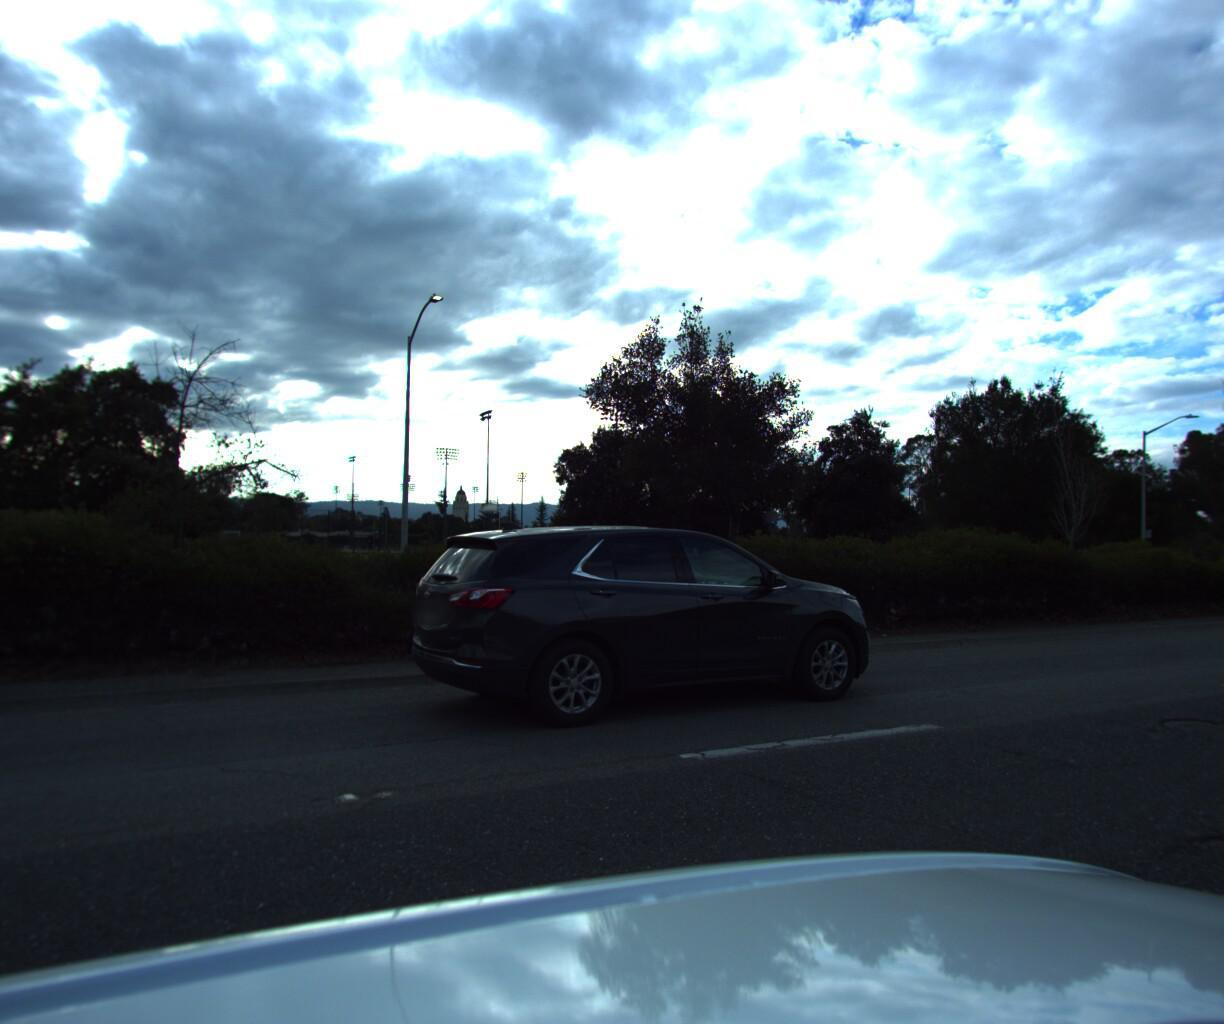car: (376, 520, 888, 743)
